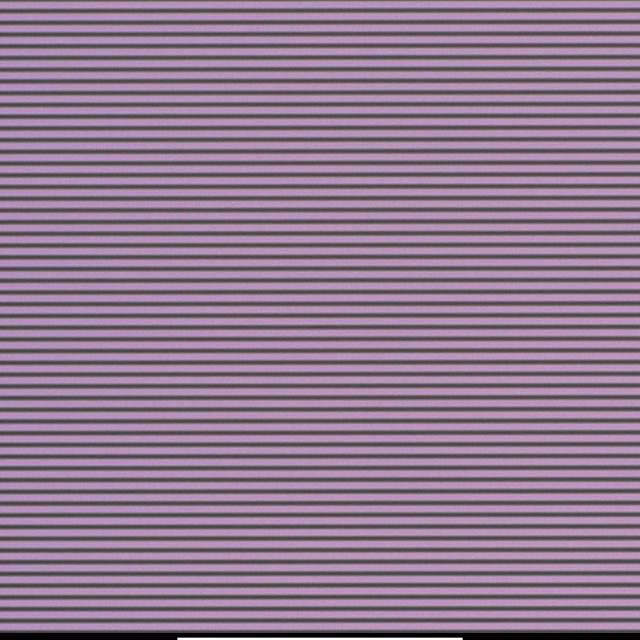03_intrusion: (316, 306, 332, 320)
